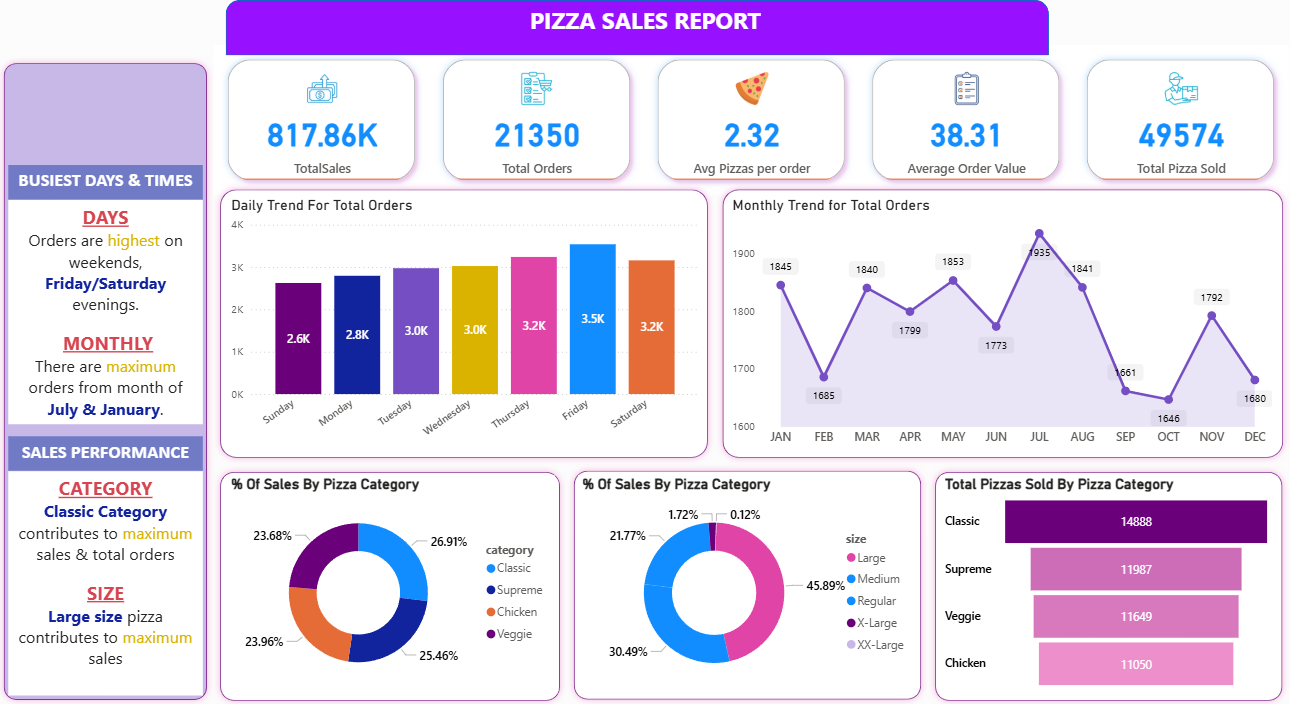

Layout of this report page (visuals, bound fields, positions):
{"tool":"powerbi","page":{"name":" Page 1","canvas":[1500,820],"ordinal":0},"visuals":[{"type":"cardVisual","fields":{"Data":["pizzas.TotalSales","order_details.Total Orders","order_details.Avg Pizzas per order","order_details.Average Order Value","order_details.Total Pizza Sold"]},"box":[251.4,52.9,1247.1,174.3],"z":0},{"type":"shape","box":[265.7,0,954.3,64.3],"z":1000},{"type":"textbox","box":[481.4,0,541.4,52.9],"z":2000},{"type":"shape","box":[251.4,211.4,581.4,327.1],"z":3000},{"type":"columnChart","title":"Daily Trend For Total Orders","fields":{"Y":["order_details.Total Orders"],"Category":["orders.Order Day"],"Series":["orders.Day Name"]},"box":[267.1,227.1,552.9,298.6],"z":4000},{"type":"shape","box":[832.9,211.4,665.7,327.1],"z":5000},{"type":"areaChart","title":"Monthly Trend for Total Orders","fields":{"Y":["order_details.Total Orders"],"Category":["orders.Month Name"]},"box":[847.1,227.1,635.7,298.6],"z":6000},{"type":"shape","box":[251.4,538.6,410,281.4],"z":7000},{"type":"shape","box":[661.4,537.1,418.6,281.4],"z":8000},{"type":"shape","box":[1080,538.6,418.6,281.4],"z":9000},{"type":"donutChart","title":"% Of Sales By Pizza Category","fields":{"Category":["pizza_types.category"],"Y":["pizzas.TotalSales"]},"box":[267.1,551.4,380,254.3],"z":10000},{"type":"donutChart","title":"% Of Sales By Pizza Category","fields":{"Y":["pizzas.TotalSales"],"Category":["pizzas.size"]},"box":[674.3,551.4,391.4,254.3],"z":11000},{"type":"funnel","title":"Total Pizzas Sold By Pizza Category","fields":{"Category":["pizza_types.category"],"Y":["order_details.Total Pizza Sold"]},"box":[1094.3,551.4,388.6,254.3],"z":12000},{"type":"shape","box":[0,65.7,251.4,754.3],"z":13000},{"type":"textbox","box":[12.9,191.4,225.7,40],"z":14000},{"type":"textbox","box":[12.9,231.4,225.7,260],"z":15000},{"type":"textbox","box":[12.9,505.7,225.7,40],"z":16000},{"type":"textbox","box":[12.9,545.7,225.7,260],"z":17000}]}

Visuals, with their boxes in screenshot pixels (x1, y1, x2, y2), scaled from the page's 1500x820 canvas onto the 1290x704 screenshot:
cardVisual - pizzas.TotalSales x order_details.Total Orders: box=[216, 45, 1289, 195]
shape: box=[229, 0, 1049, 55]
textbox: box=[414, 0, 880, 45]
shape: box=[216, 181, 716, 462]
"Daily Trend For Total Orders" columnChart: box=[230, 195, 705, 451]
shape: box=[716, 181, 1289, 462]
"Monthly Trend for Total Orders" areaChart: box=[729, 195, 1275, 451]
shape: box=[216, 462, 569, 703]
shape: box=[569, 461, 929, 703]
shape: box=[929, 462, 1289, 703]
"% Of Sales By Pizza Category" donutChart: box=[230, 473, 557, 692]
"% Of Sales By Pizza Category" donutChart: box=[580, 473, 917, 692]
"Total Pizzas Sold By Pizza Category" funnel: box=[941, 473, 1275, 692]
shape: box=[0, 56, 216, 703]
textbox: box=[11, 164, 205, 199]
textbox: box=[11, 199, 205, 422]
textbox: box=[11, 434, 205, 469]
textbox: box=[11, 469, 205, 692]
